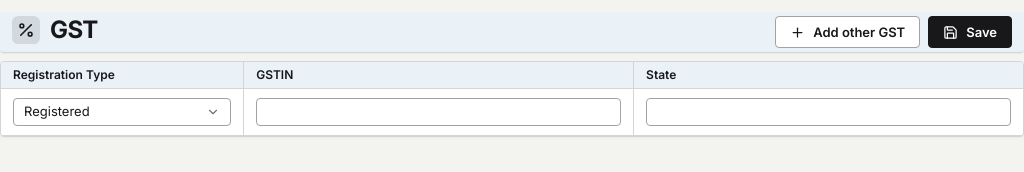
Test: TaxRegistrationMaster › disables GSTIN when unregistered and derives state from a GSTIN
The image size is (1024, 172).
Type "27ABCDE1234F1Z5" into the field named "Primary GST GSTIN" at (439, 112), box top-left (256, 98), bottom-right (621, 126)
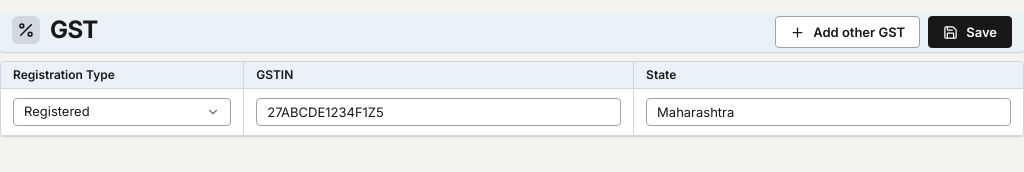
Now the field named "Primary GST state" holds "Maharashtra", box top-left (646, 98), bottom-right (1011, 126)
Select "Unregistered" in the dropdown named "Primary GST registration type" at (122, 112), box top-left (13, 98), bottom-right (231, 126)
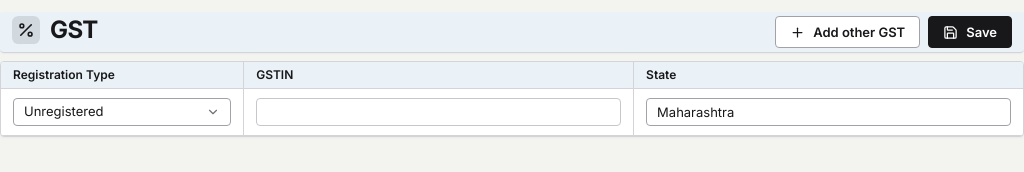
Now the field named "Primary GST GSTIN" is disabled, box top-left (256, 98), bottom-right (621, 126)
Now the field named "Primary GST GSTIN" is empty, box top-left (256, 98), bottom-right (621, 126)
